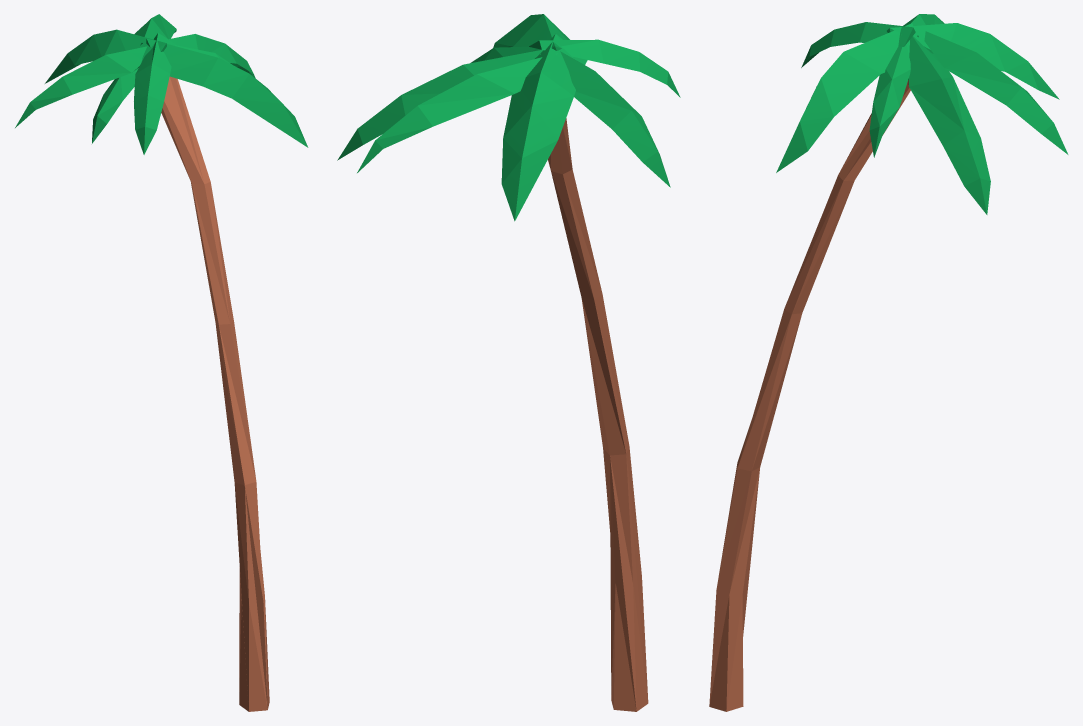
Rendered from Tree_10_gradient_green_vc.fbx.
The picture shows the model from 3 angles, left to right: view 1: azimuth 30°, elevation 25°; view 2: azimuth 150°, elevation 25°; view 3: azimuth 270°, elevation 25°; orthographic projection. The views are drawn at different scales.
Parts seen in each view (by area): view 1: Tree_10_gradient_green_vc; view 2: Tree_10_gradient_green_vc; view 3: Tree_10_gradient_green_vc.
Boxes of the visible parts, bbox=[...] form: Tree_10_gradient_green_vc: bbox=[15, 14, 308, 711]; Tree_10_gradient_green_vc: bbox=[337, 14, 680, 711]; Tree_10_gradient_green_vc: bbox=[709, 14, 1068, 711].
Size of the model in its own units: 89.06 by 201 by 97.75.
